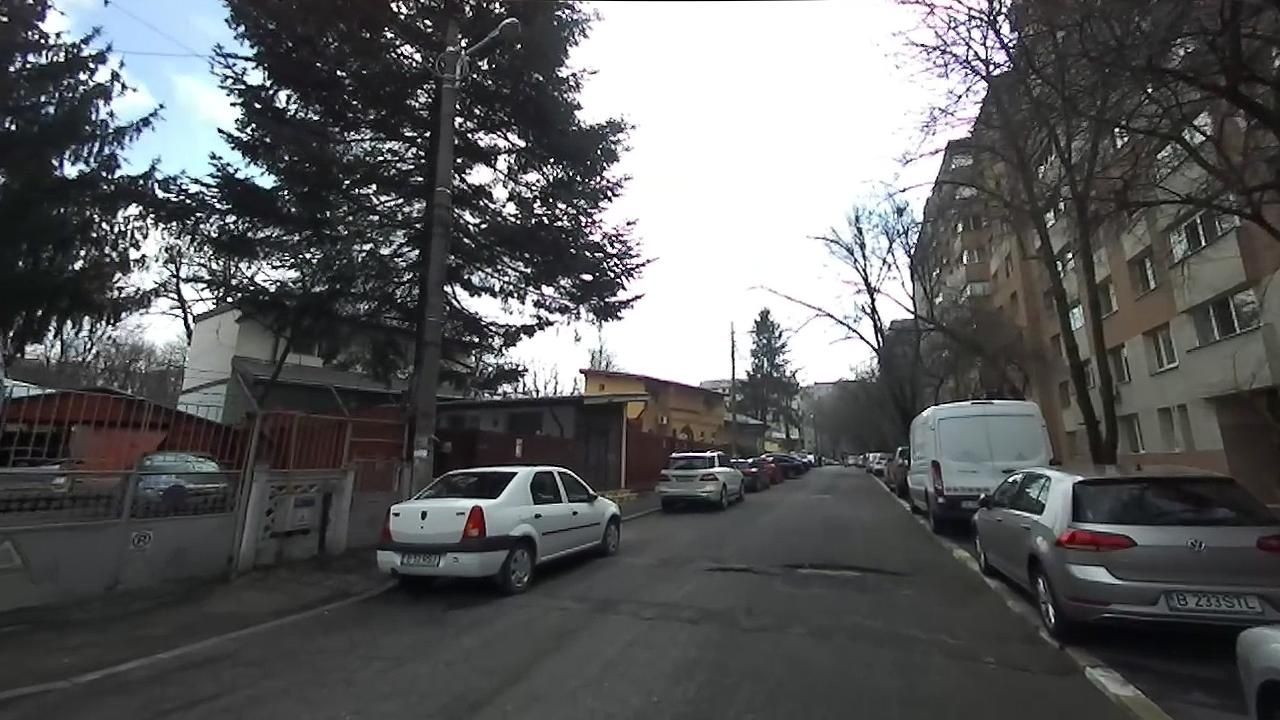pothole: (784, 559, 912, 578), (701, 561, 764, 574)
